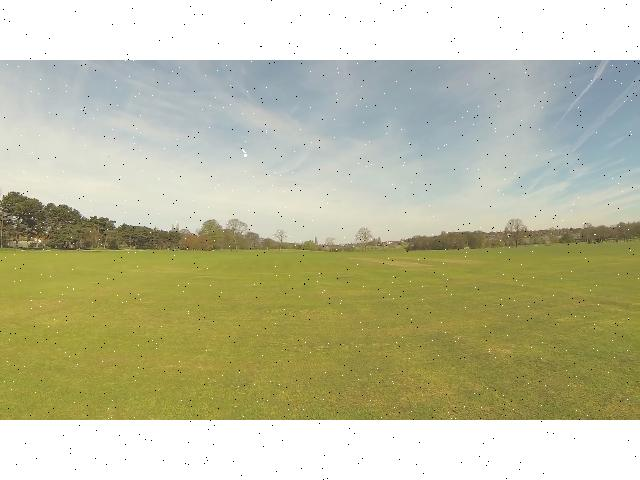Anti-Drone: (224, 140, 264, 166)
